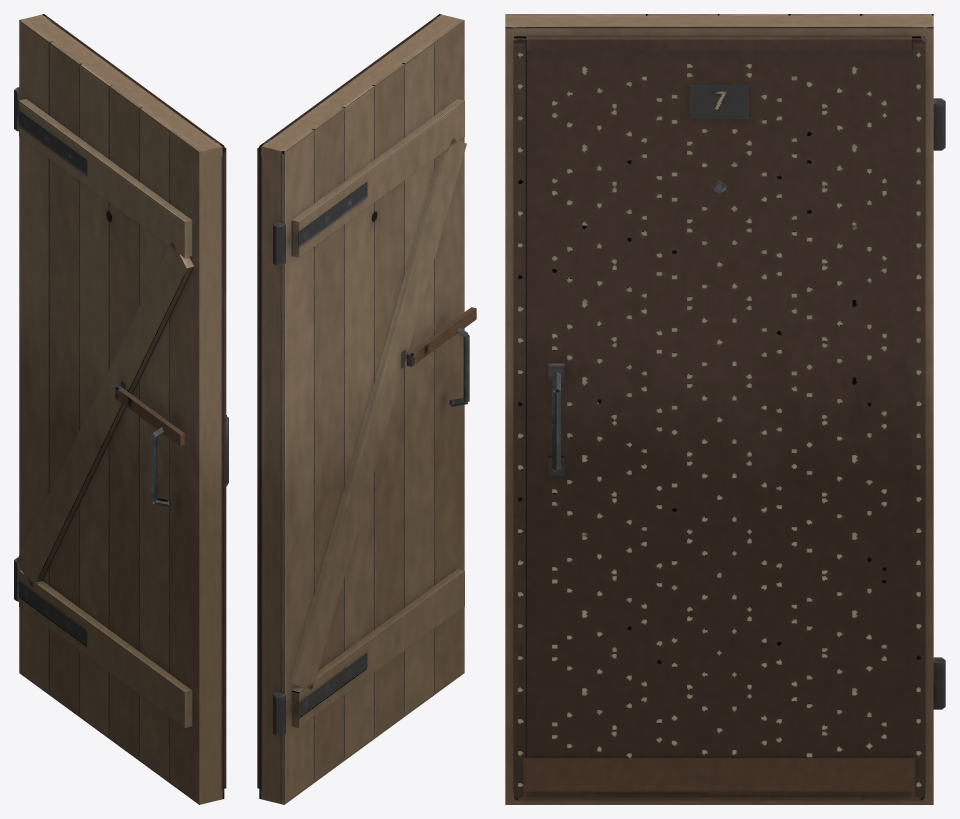
The model's file is front_door.glb.
The picture shows the model from 3 angles, left to right: view 1: azimuth 30°, elevation 25°; view 2: azimuth 150°, elevation 25°; view 3: azimuth 270°, elevation 25°; orthographic projection. The views are drawn at different scales.
Visible parts, largest first — view 1: front_door_lo; view 2: front_door_lo; view 3: front_door_lo.
Boxes of the visible parts, x1,y1,x2,y2 form: front_door_lo: (14,14,228,804); front_door_lo: (257,14,476,804); front_door_lo: (505,14,945,804).
Size of the model in its own units: 0.25 by 2 by 1.03.
Materials: 1 (1 with a texture image).
